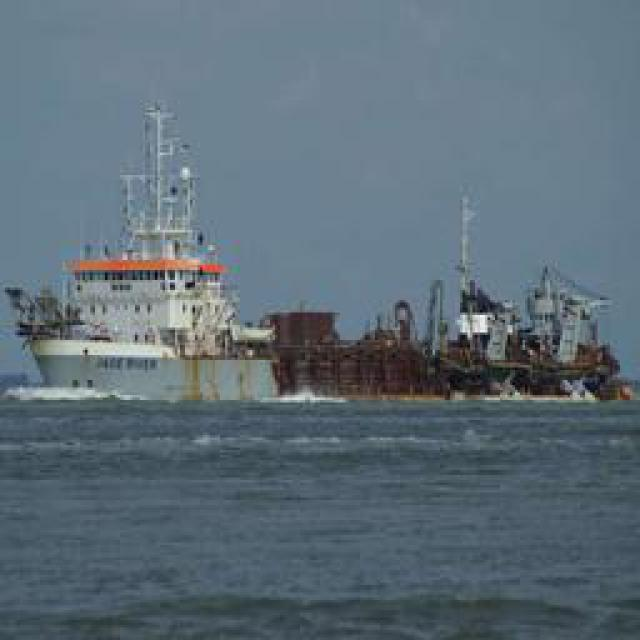Ship: (16, 97, 289, 400)
